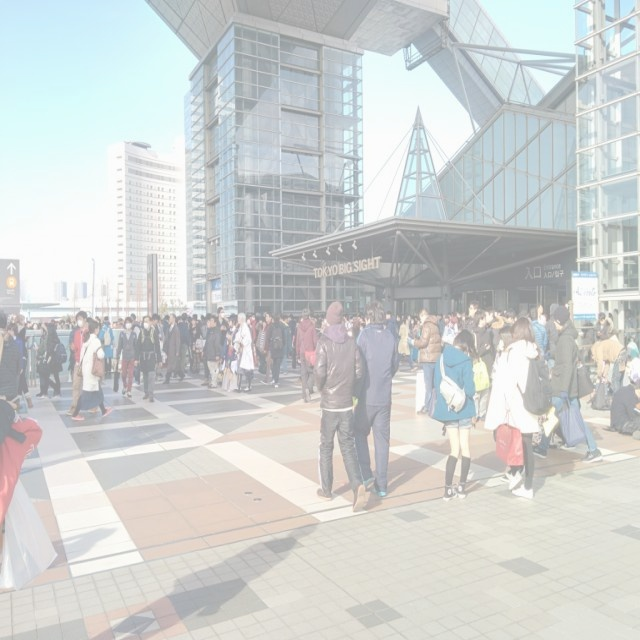pessoa: (309, 300, 370, 514), (433, 298, 532, 424), (532, 304, 603, 464), (483, 314, 543, 500), (352, 298, 400, 498), (430, 327, 478, 502), (0, 390, 46, 568), (574, 279, 640, 379), (150, 307, 234, 368), (69, 316, 114, 424), (410, 307, 442, 415), (245, 303, 327, 345), (132, 313, 164, 405), (586, 337, 630, 402), (64, 310, 88, 417), (36, 321, 68, 401), (294, 306, 320, 404), (112, 314, 140, 400), (230, 310, 256, 392), (159, 310, 187, 386), (13, 314, 34, 411), (608, 378, 640, 441), (34, 320, 58, 400), (84, 306, 144, 335), (200, 314, 222, 390), (220, 312, 240, 392), (266, 311, 286, 389), (394, 314, 418, 374), (96, 314, 117, 374), (338, 304, 371, 342), (529, 306, 549, 366), (389, 308, 423, 343), (260, 310, 275, 387), (278, 313, 294, 377), (544, 302, 560, 352), (216, 306, 230, 348), (132, 334, 143, 386), (575, 378, 597, 400), (250, 344, 268, 367), (534, 301, 548, 328), (14, 342, 25, 376), (408, 342, 419, 364), (182, 367, 202, 377), (154, 366, 164, 382), (233, 311, 240, 331), (290, 344, 294, 350)
